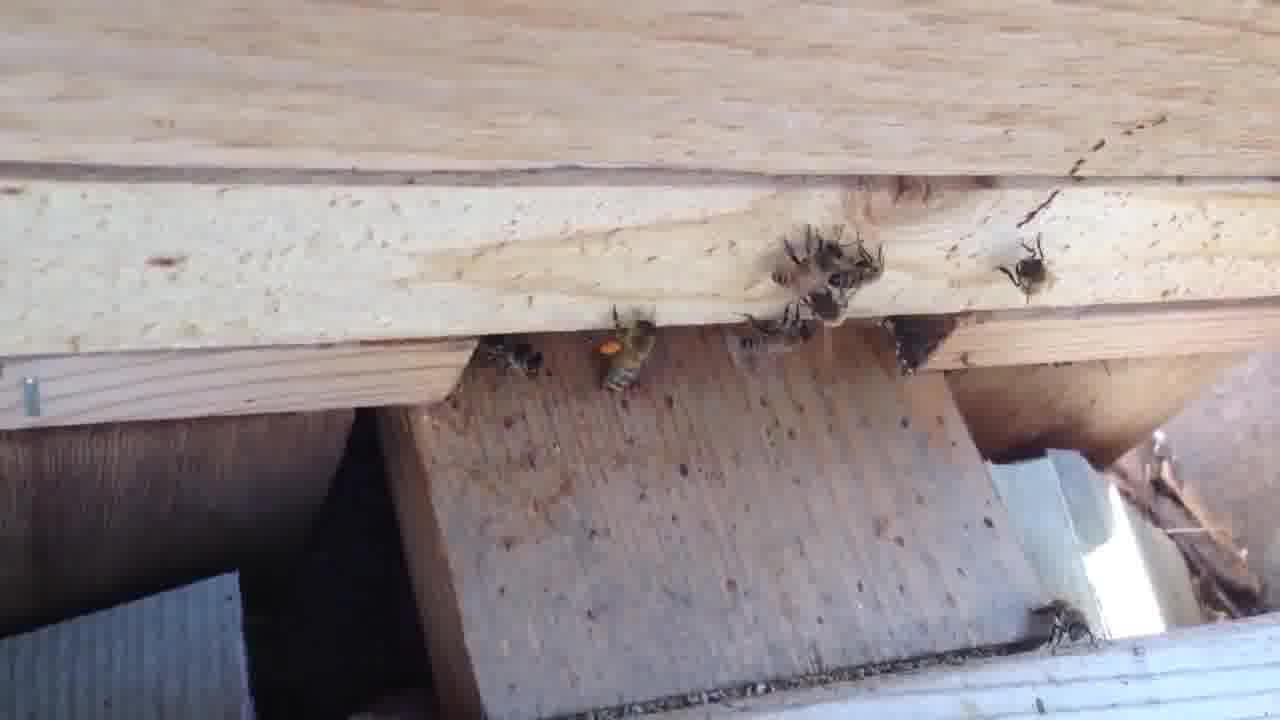pollen: (600, 302, 660, 393)
